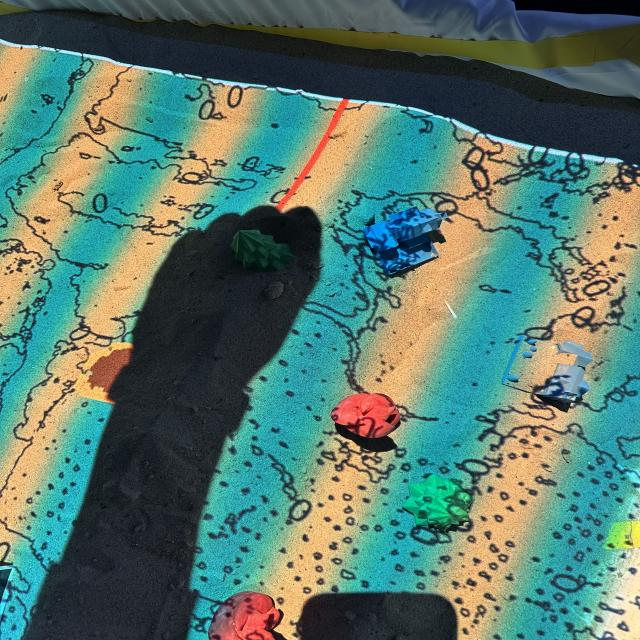fire: (208, 590, 283, 640), (328, 392, 402, 438)
house: (500, 334, 592, 405), (363, 206, 448, 276)
tree: (400, 472, 474, 529), (228, 230, 298, 270)
